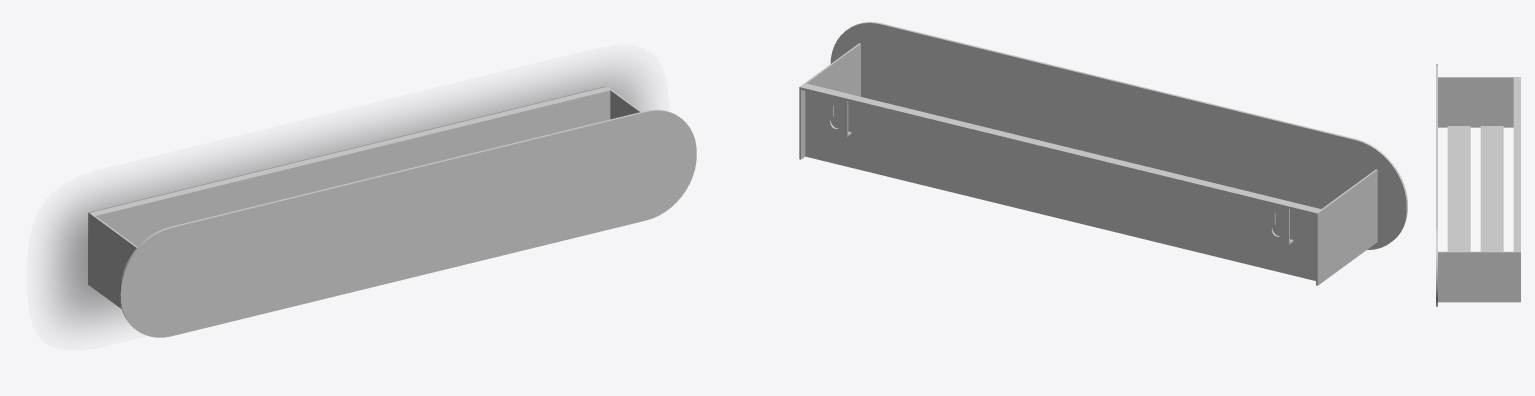
The model's file is round-mono.2239072224.ar.glb.
3 renders of one model, left to right at view 1: azimuth 30°, elevation 25°; view 2: azimuth 150°, elevation 25°; view 3: azimuth 270°, elevation 25°, orthographic. The views are drawn at different scales.
Parts seen in each view (by area): view 1: NAUO1, object 2; view 2: NAUO1; view 3: NAUO1.
Part boxes in pixels (x1,y1,x2,y2): NAUO1: (88, 86, 696, 337); object 2: (49, 70, 646, 325); NAUO1: (799, 22, 1407, 285); NAUO1: (1436, 64, 1520, 306).
Size of the model in its own units: 0.58 by 0.17 by 0.092.
Materials: 2 (1 with a texture image).
